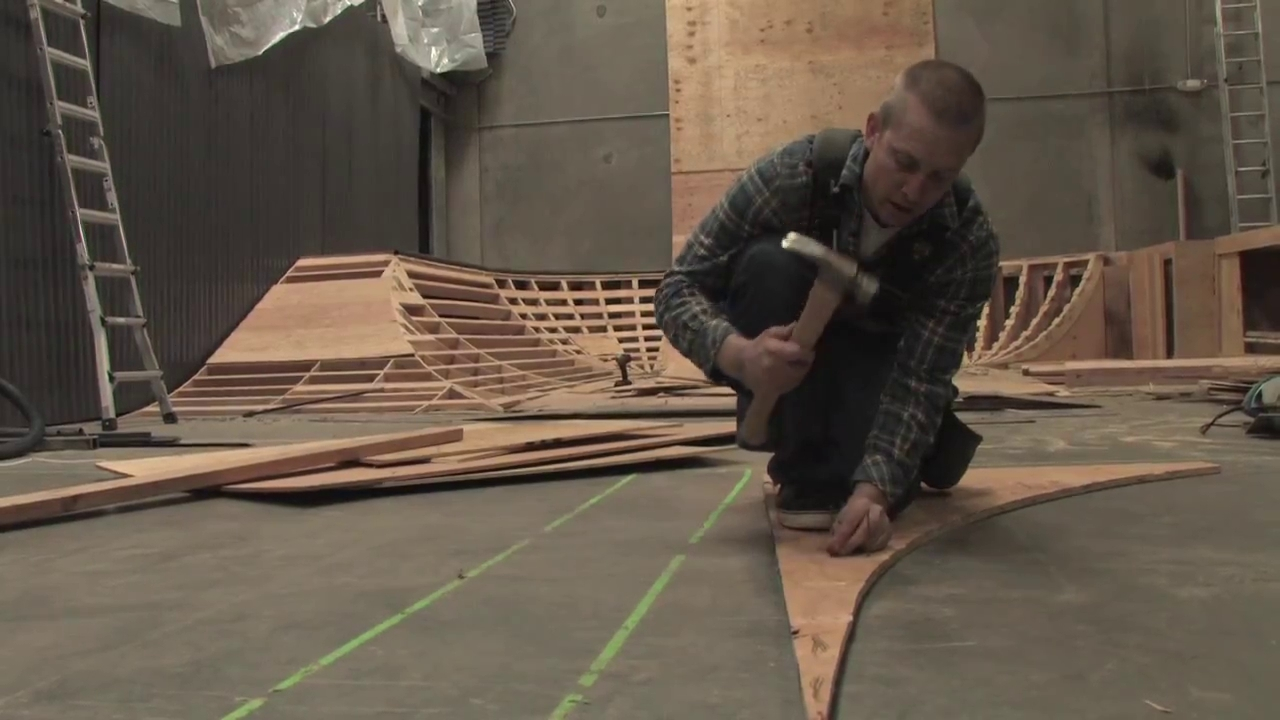person: (655, 60, 1000, 555)
